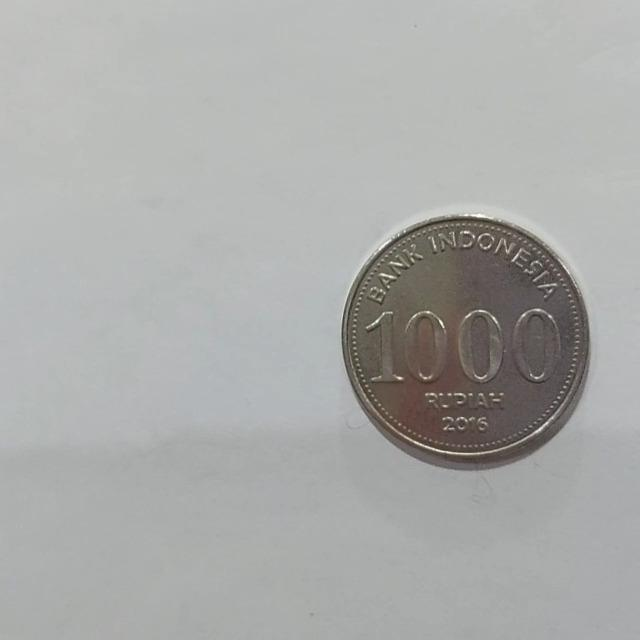Rp100: (339, 211, 591, 471)
